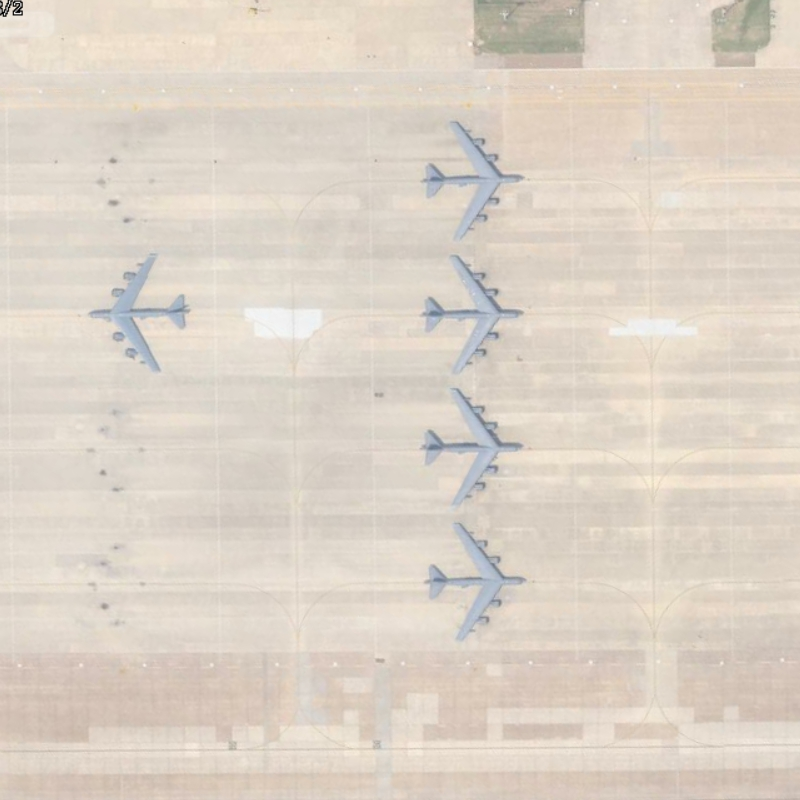A8: (75, 239, 193, 379), (410, 248, 532, 383), (409, 516, 530, 649), (412, 115, 532, 249), (413, 382, 532, 516)
